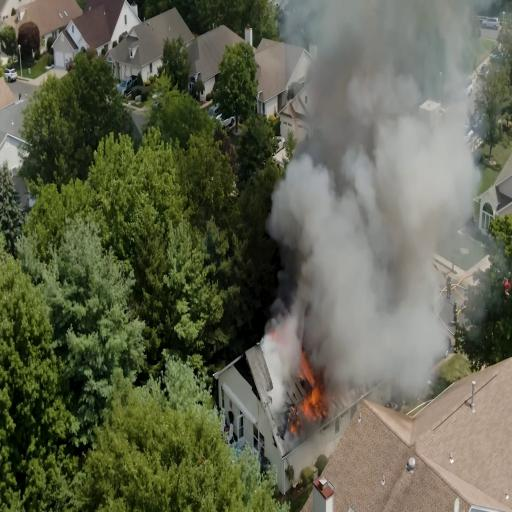smoke: (302, 0, 421, 191), (283, 176, 408, 326), (314, 304, 427, 386)
